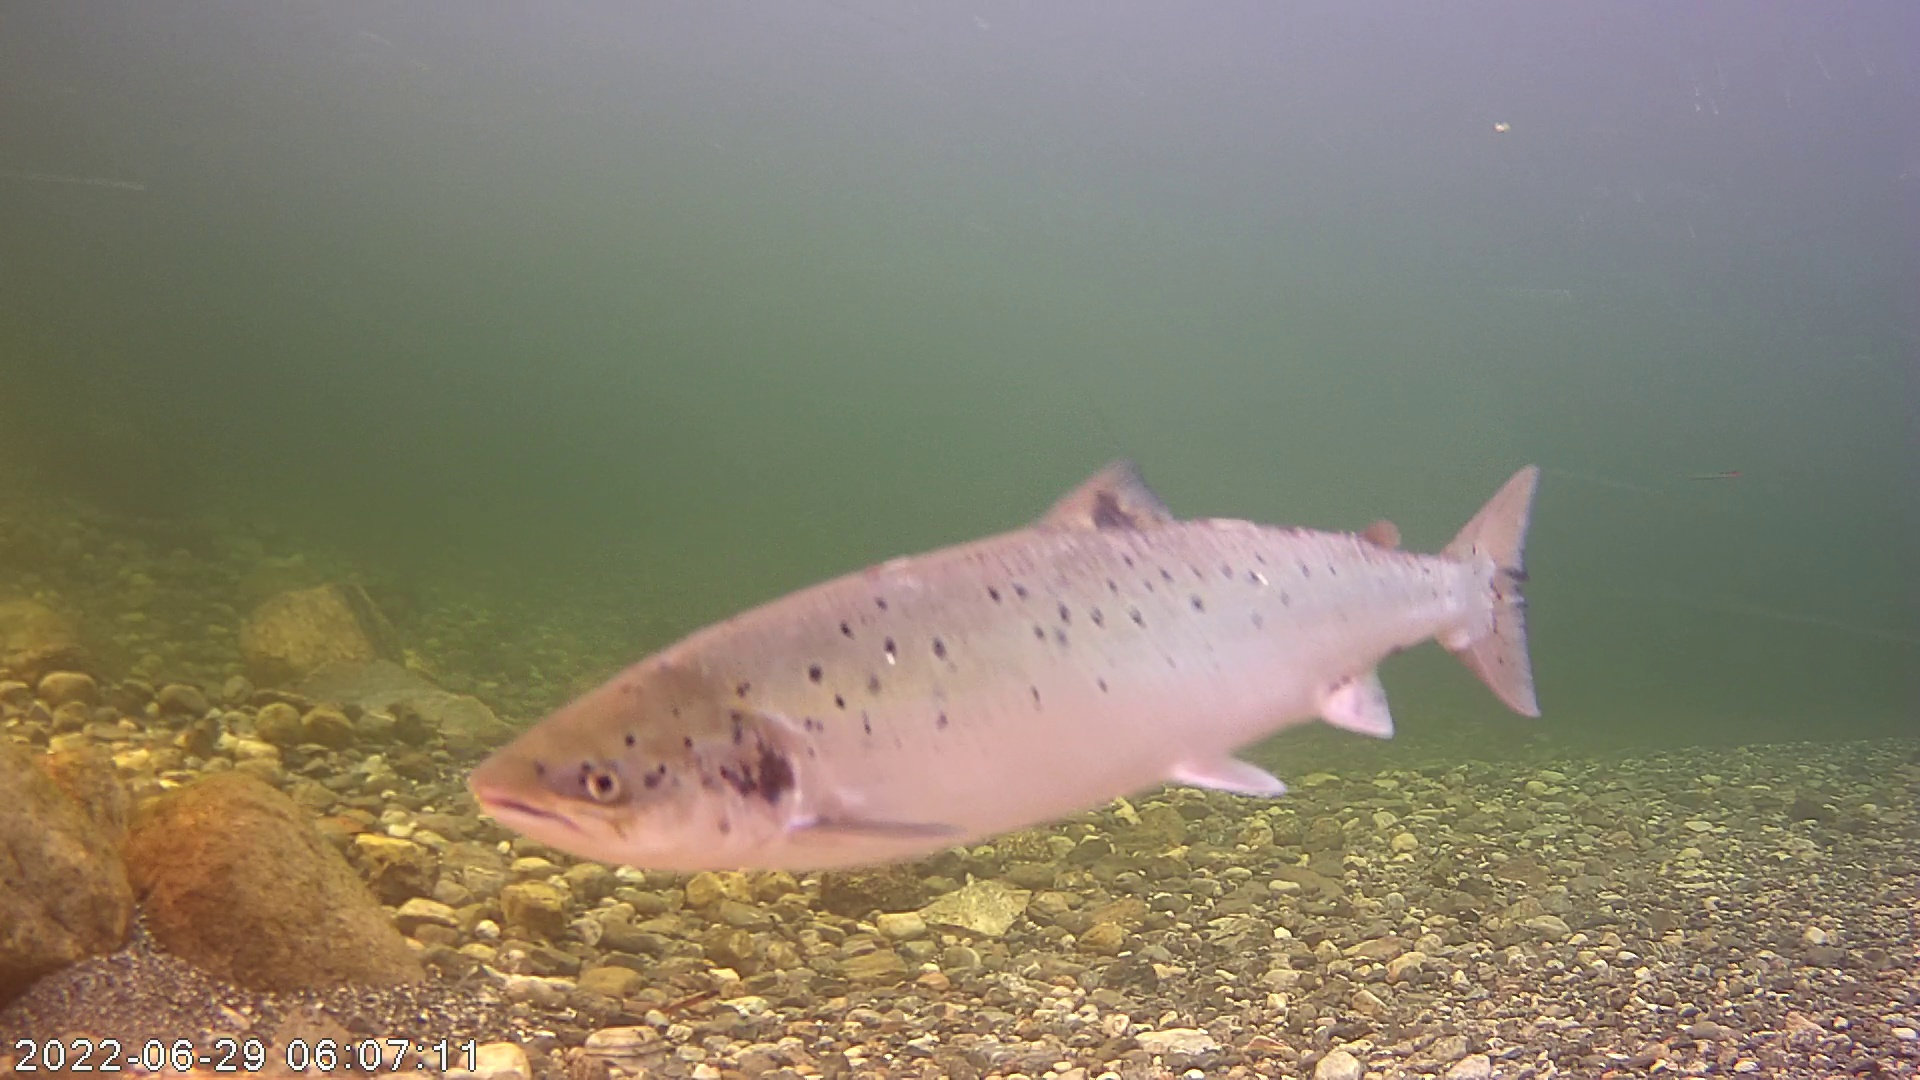salmon: (479, 381, 1545, 872)
